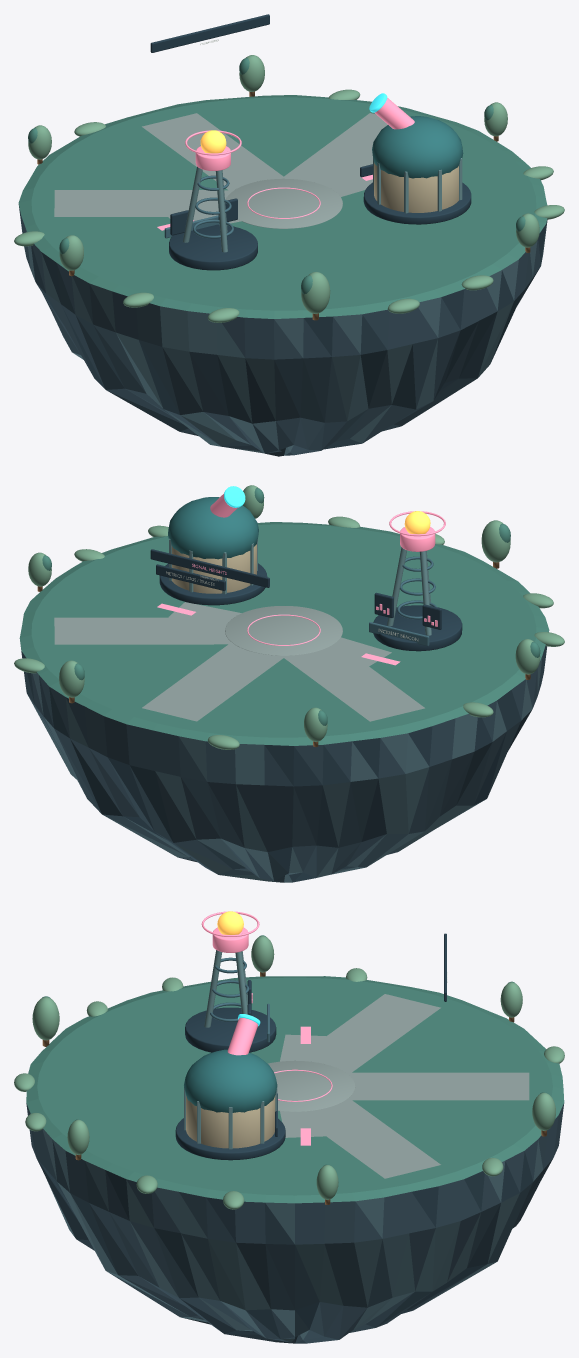
File: district-observability.glb
3 views of the same model, one above another, from view 1: azimuth 30°, elevation 25°; view 2: azimuth 150°, elevation 25°; view 3: azimuth 270°, elevation 25° (orthographic). The views are drawn at different scales.
Parts seen in each view (by area): view 1: district-observability; view 2: district-observability; view 3: district-observability.
Part boxes in pixels (bbox=[...]): district-observability: bbox=[14, 14, 564, 456]; district-observability: bbox=[14, 485, 564, 882]; district-observability: bbox=[14, 911, 564, 1343].
Bounding box in the file's own units: 13.13 × 9.78 × 12.82.
